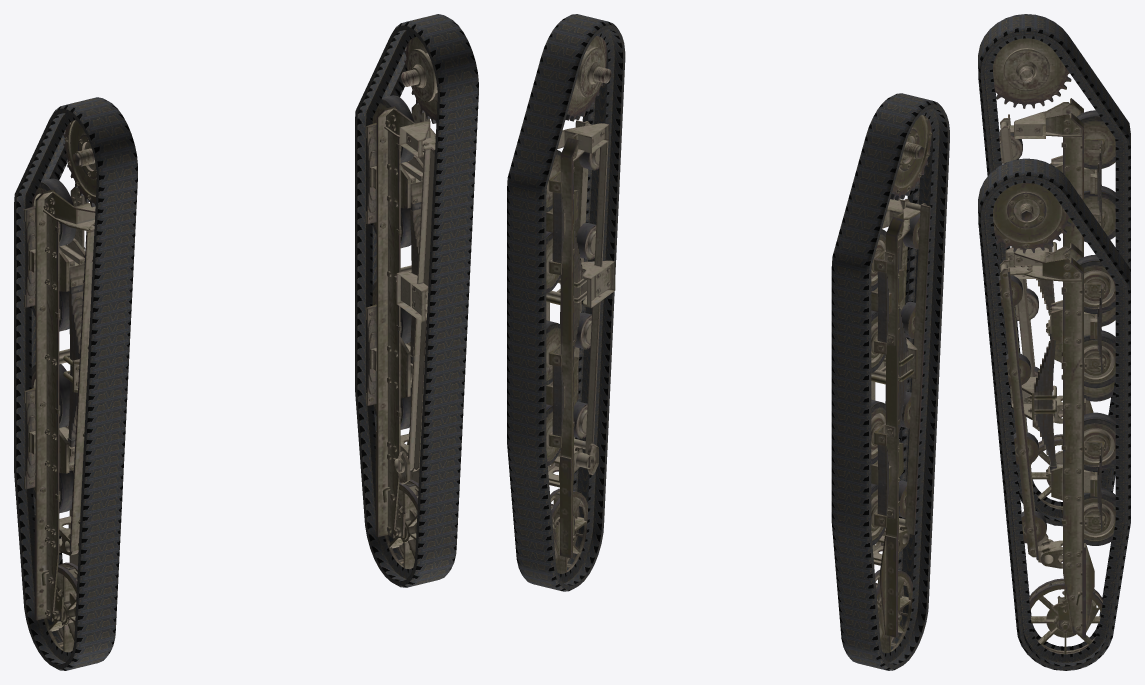
Rendered from Chassis.glb.
3 views of the same model, side by side, from view 1: azimuth 30°, elevation 25°; view 2: azimuth 150°, elevation 25°; view 3: azimuth 270°, elevation 25° (orthographic). The views are drawn at different scales.
Parts seen in each view (by area): view 1: set_1_group_0, set_0_group_0, set_3_group_0, set_2_group_0; view 2: set_1_group_0, set_0_group_0, set_3_group_0, set_2_group_0; view 3: set_3_group_0, set_0_group_0, set_2_group_0, set_1_group_0.
Part boxes in pixels (<box>): set_1_group_0: <box>14,97,137,670</box>; set_0_group_0: <box>355,14,478,587</box>; set_3_group_0: <box>366,37,437,569</box>; set_2_group_0: <box>24,120,127,652</box>; set_1_group_0: <box>831,93,949,670</box>; set_0_group_0: <box>507,14,625,591</box>; set_3_group_0: <box>546,36,615,573</box>; set_2_group_0: <box>871,115,932,653</box>; set_3_group_0: <box>993,182,1115,654</box>; set_0_group_0: <box>978,158,1130,670</box>; set_2_group_0: <box>993,38,1115,509</box>; set_1_group_0: <box>978,14,1130,526</box>.
Size of the model in its own units: 1.79 by 2.53 by 0.7009.
4 materials, 4 textured.
